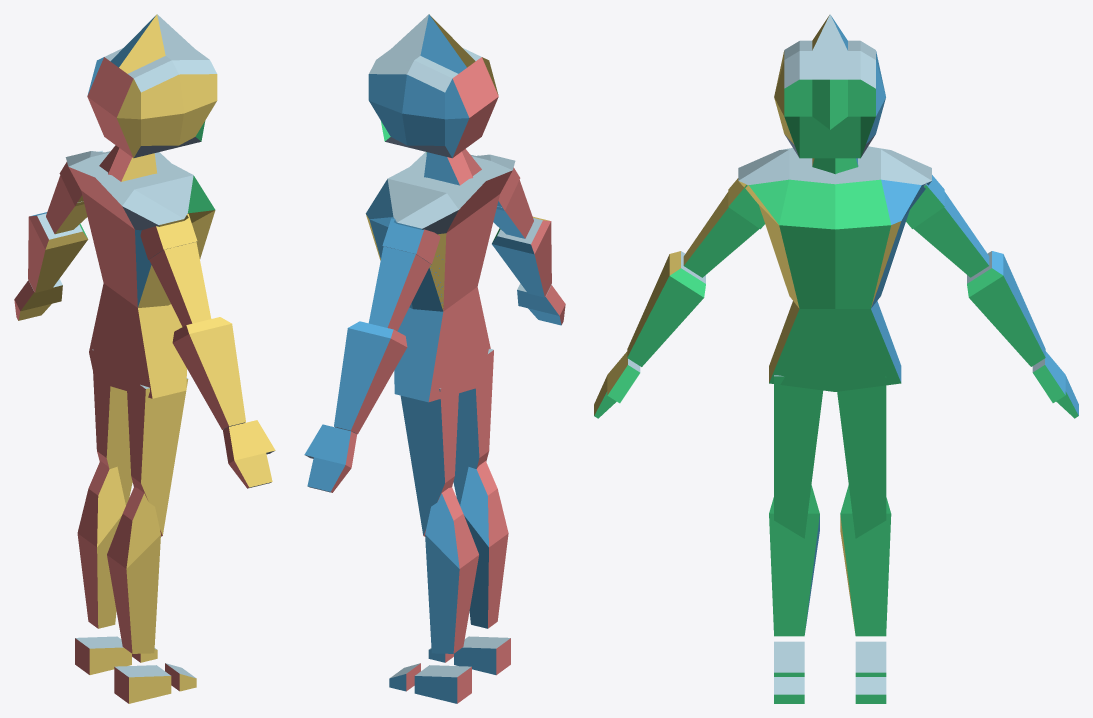
File: test_doctor.obj
3 renders of one model, left to right at view 1: azimuth 30°, elevation 25°; view 2: azimuth 150°, elevation 25°; view 3: azimuth 270°, elevation 25°, orthographic. The views are drawn at different scales.
Parts seen in each view (by area): view 1: cube, Arm, Head, Torso, Waist, Neck; view 2: cube, Arm, Head, Torso, Waist, Neck; view 3: cube, Torso, Arm, Head, Waist.
Boxes of the visible parts, <box> form: cube: <box>75,349,196,703</box>; Arm: <box>14,150,275,488</box>; Head: <box>87,14,217,158</box>; Torso: <box>65,151,215,307</box>; Waist: <box>89,283,186,398</box>; Neck: <box>99,145,157,181</box>; cube: <box>389,349,510,703</box>; Arm: <box>304,155,565,492</box>; Head: <box>368,14,498,158</box>; Torso: <box>365,152,515,311</box>; Waist: <box>394,287,490,402</box>; Neck: <box>424,149,481,185</box>; cube: <box>769,375,891,703</box>; Torso: <box>738,146,931,308</box>; Arm: <box>594,175,1078,418</box>; Head: <box>774,14,885,158</box>; Waist: <box>769,301,901,391</box>.
Bounding box in the file's own units: 0.0781 × 0.4625 × 0.2973.
